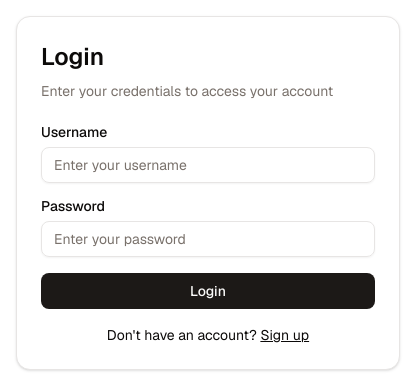
it: Login Page › should disable submit button while loading
This screenshot has width=417, height=388.
In the field labelled "Username": point(208, 165) [41,147,375,183], type "testuser"
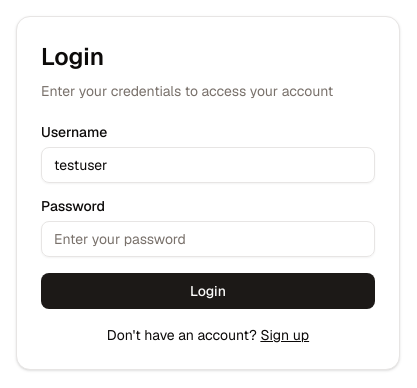
In the password field labelled "Password": point(208, 239) [41,221,375,257], type "password123"
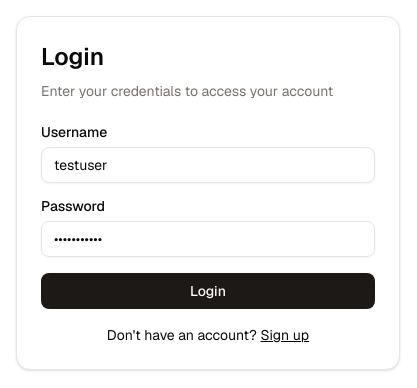
Click the button "Login": point(208, 291) [41,273,375,309]
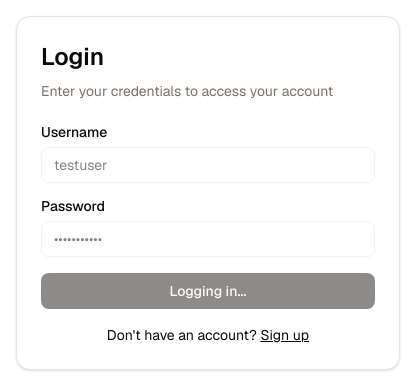
Check: the button named "login" is disabled, box [41,273,375,309]
